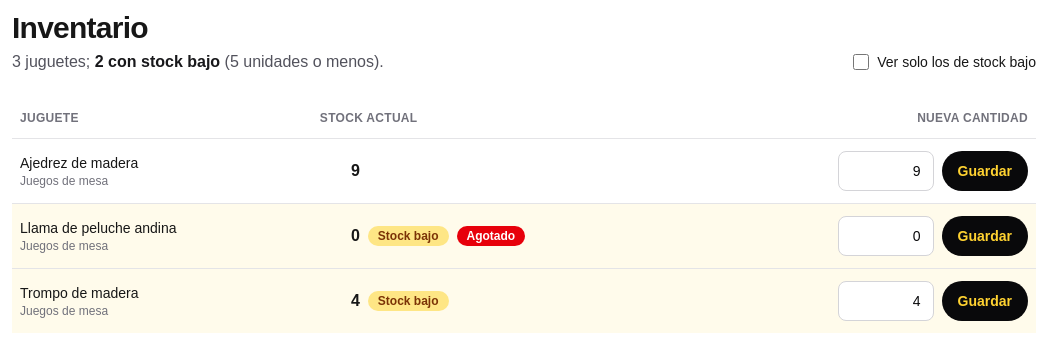
Test: VistaInventario (HU-13) › guarda la nueva cantidad con PATCH y actualiza la fila
The width and height of the screenshot is (1048, 362).
Replace the text in the field named "Nueva cantidad de Trompo de madera" in the row of "Trompo de madera" with "25" at (886, 301), box [838,281,934,321]
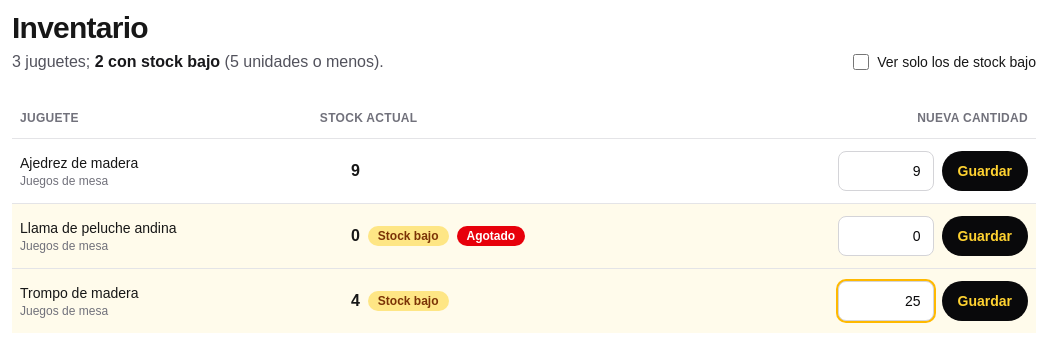
Click the button "Guardar" in the row of "Trompo de madera" at (985, 301), box [942,281,1028,321]
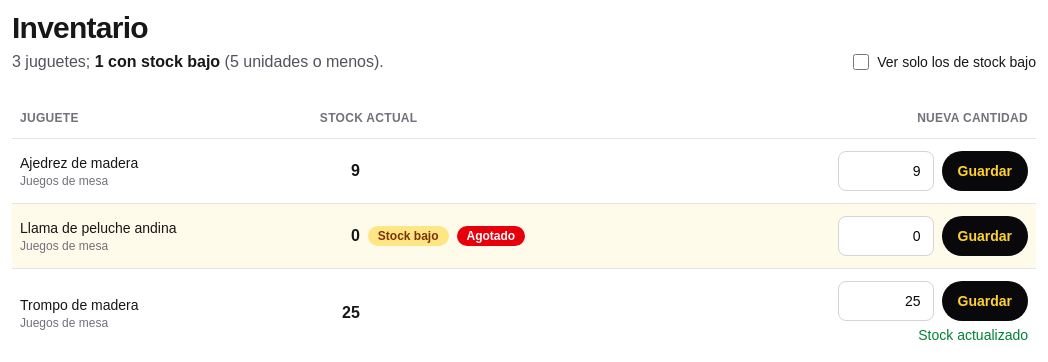
Check: the text "Stock actualizado" is shown, box [918,325,1028,345]
Check: the text "1 con stock bajo" is shown, box [95,53,220,70]
